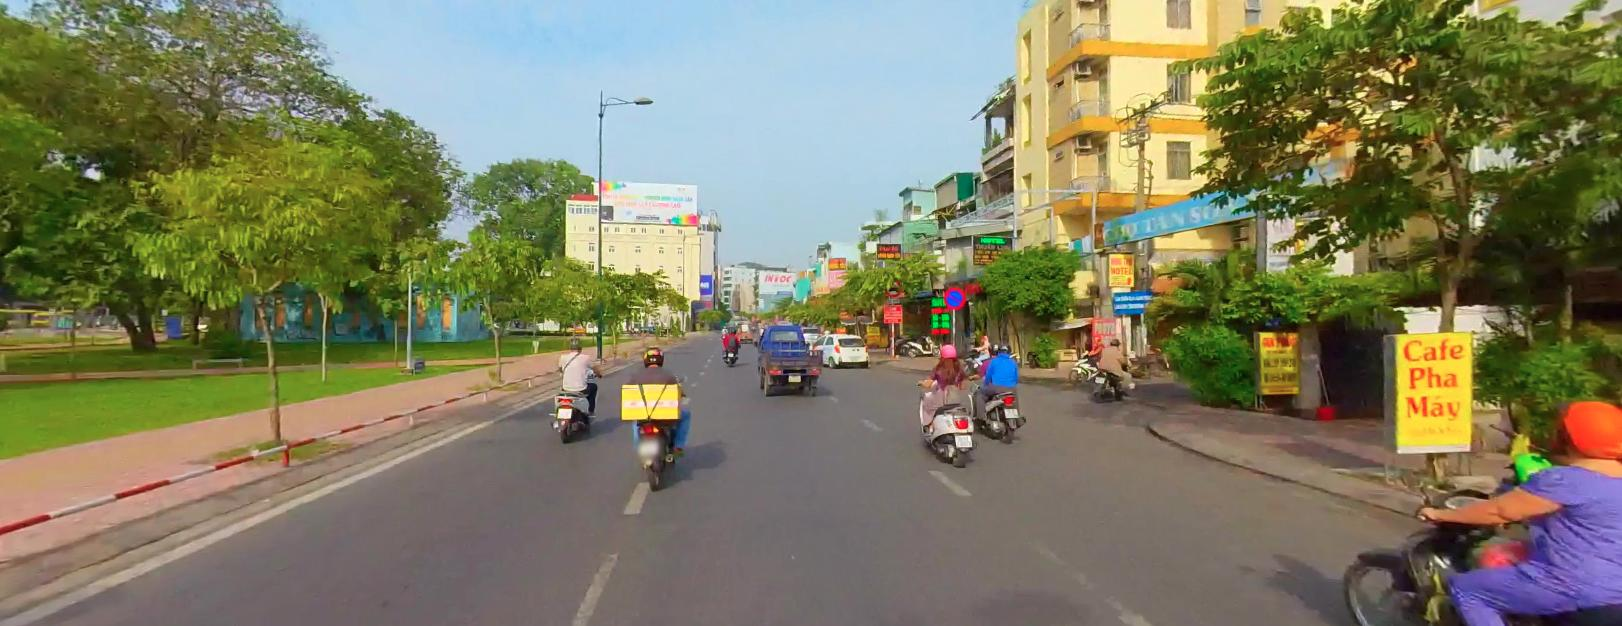Cam con lai: (885, 278, 901, 296)
Cam dung va do: (942, 286, 964, 307)
